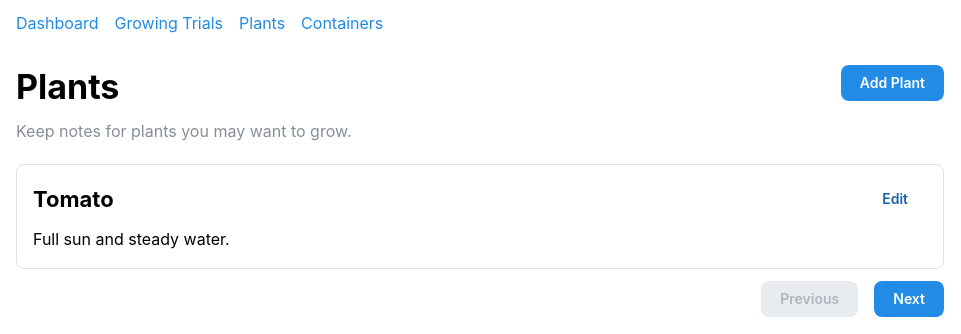
Test: PlantsPage › navigates to the previous Plant page
This screenshot has width=961, height=334.
Expected: the heading "Tomato" is shown, 33,184 -> 114,214
Click the button "Next" at coordinates (909, 299), box 874,281 -> 944,317
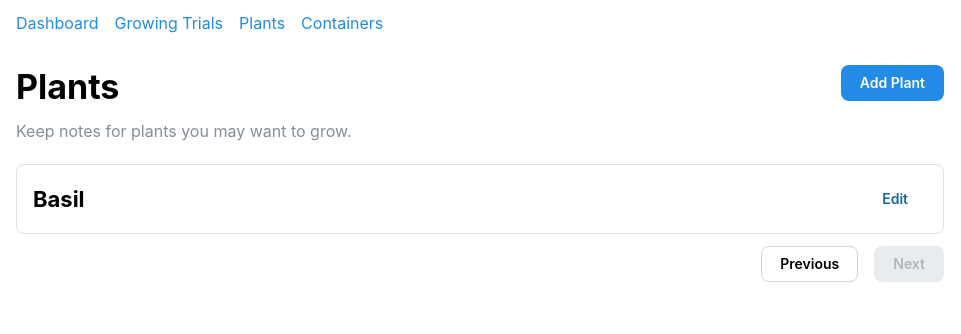
Result: the heading "Basil" is shown at 33,184 -> 85,214
Click the button "Previous" at coordinates (810, 264), box 761,246 -> 858,282
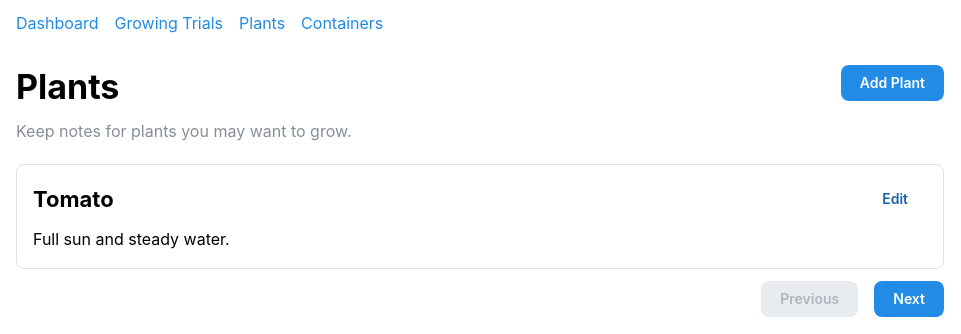
Result: the heading "Tomato" is shown at 33,184 -> 114,214
